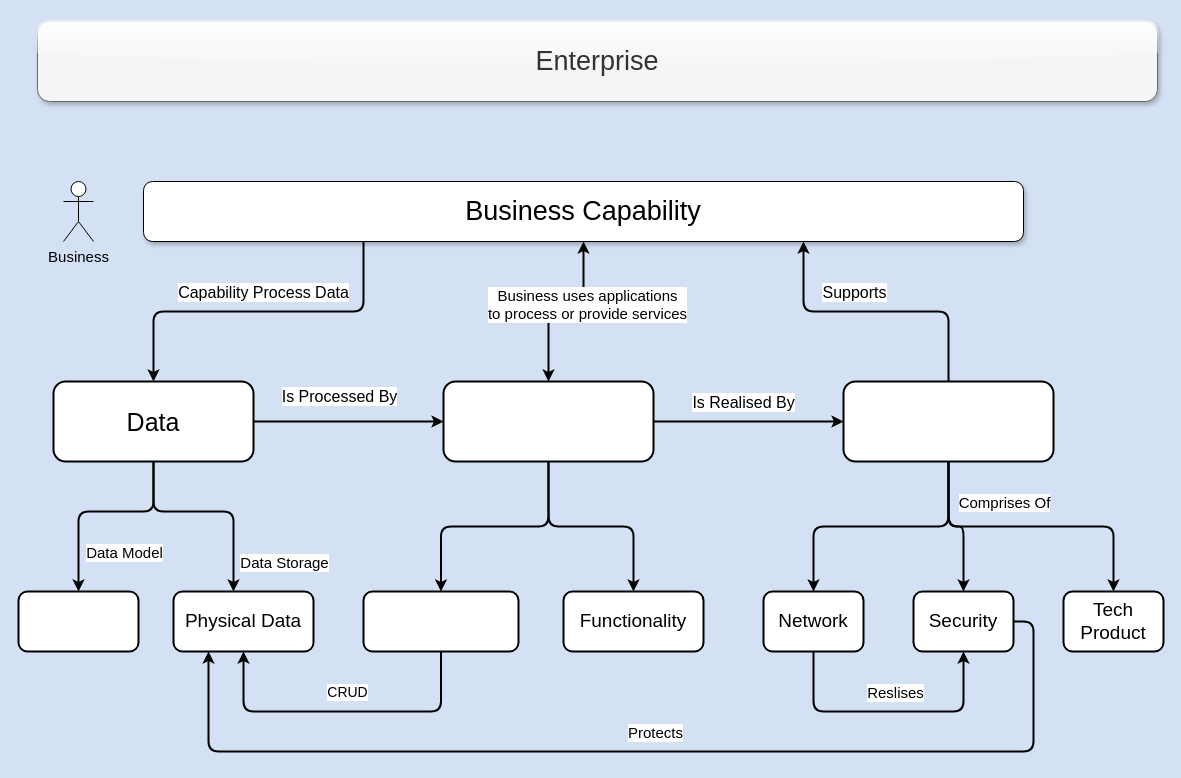
Image size: 1181x778. Some labels were removed from this diagram. The shapes that lost their labels are listed below. From the top down, each one's centre as x and y in pixels, then its label:
[548,421]: Application
[948,421]: Technology
[78,621]: Logical Data
[440,621]: Integration
